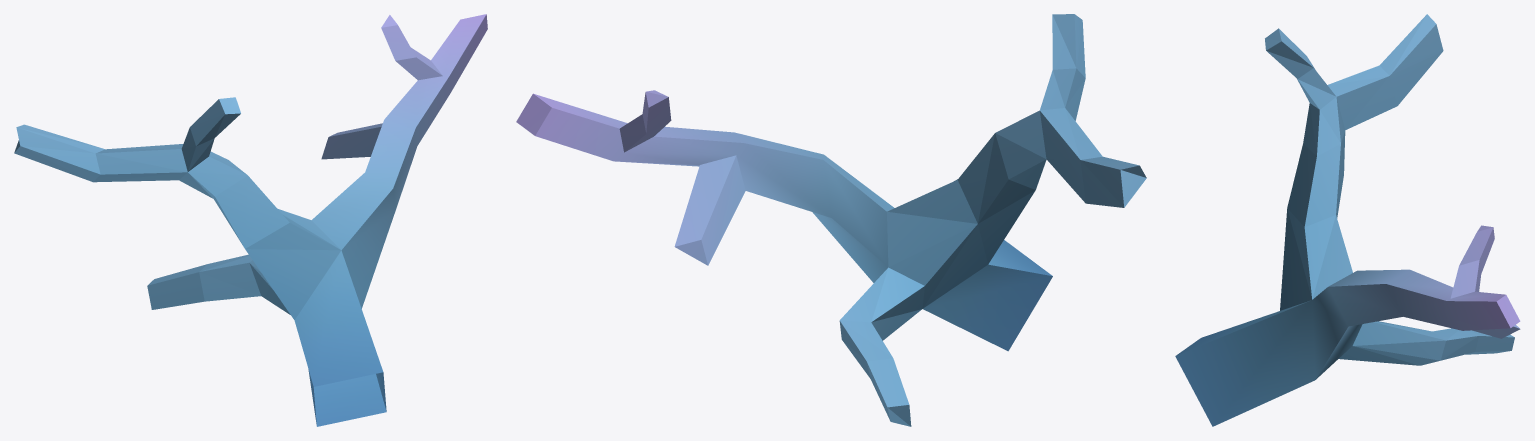
The model's file is Coral_08.FBX.
3 views of the same model, side by side, from view 1: azimuth 30°, elevation 25°; view 2: azimuth 150°, elevation 25°; view 3: azimuth 270°, elevation 25° (orthographic). The views are drawn at different scales.
Visible parts, largest first — view 1: Coral_08; view 2: Coral_08; view 3: Coral_08.
Boxes of the visible parts, box(x1,y1,x2,y2) form: Coral_08: box(14, 14, 487, 426); Coral_08: box(516, 14, 1146, 426); Coral_08: box(1175, 14, 1520, 426).
Bounding box in the file's own units: 4.59 × 2.84 × 2.61.
